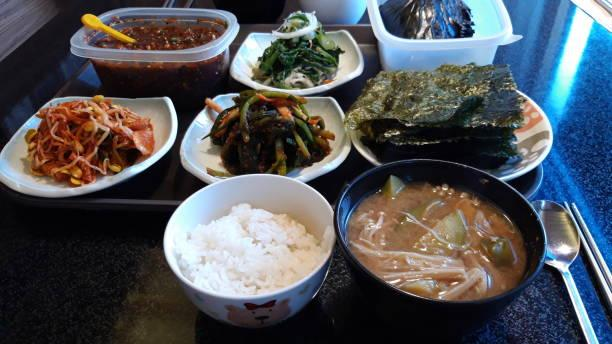Braised Crucian Carp: (332, 157, 545, 333), (162, 172, 332, 326), (1, 94, 178, 197), (352, 88, 547, 180), (70, 5, 236, 106), (180, 93, 348, 185), (229, 28, 363, 95)
